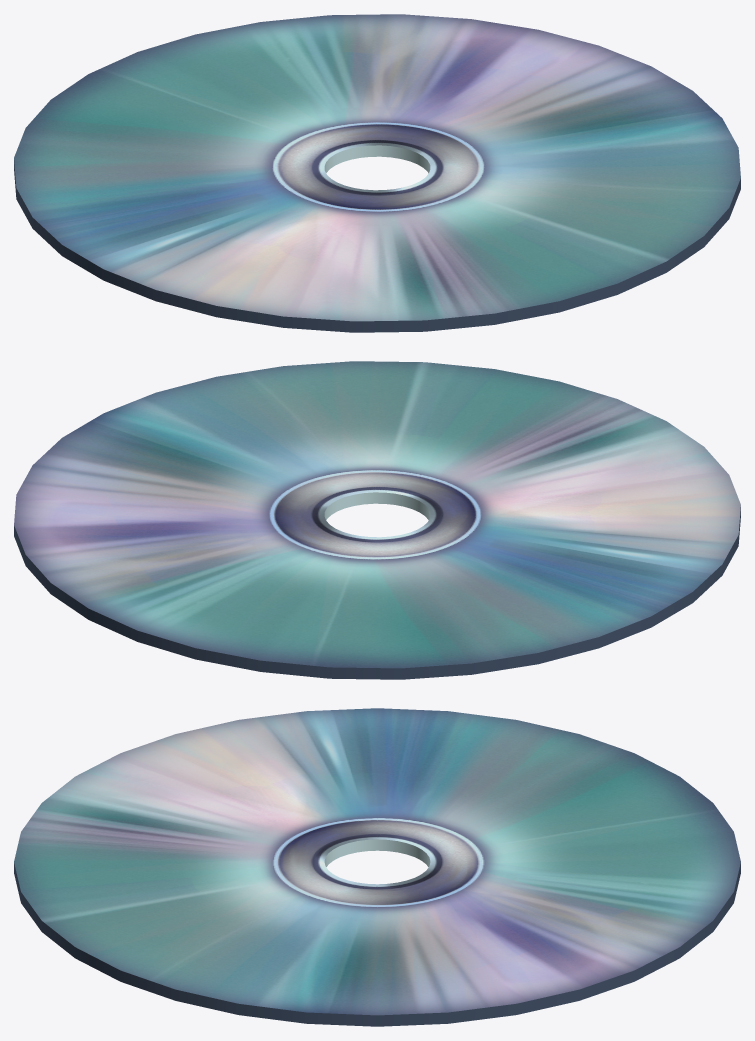
The model's file is lvl2_cd2.FBX.
The picture shows the model from 3 angles, top to bottom: view 1: azimuth 30°, elevation 25°; view 2: azimuth 150°, elevation 25°; view 3: azimuth 270°, elevation 25°; orthographic projection.
Visible parts, largest first — view 1: Cylinder003; view 2: Cylinder003; view 3: Cylinder003.
Part boxes in pixels (x1,y1,x2,y2): Cylinder003: [14, 14, 740, 332]; Cylinder003: [14, 361, 740, 679]; Cylinder003: [14, 708, 740, 1026].
Size of the model in its own units: 860 by 14.77 by 860.
Materials: 1 (1 with a texture image).
